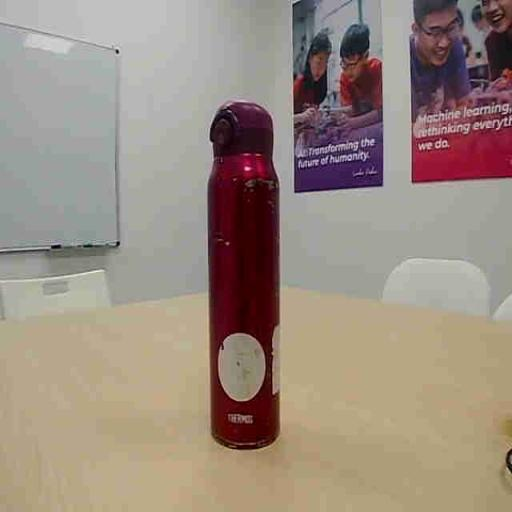bottle: (208, 103, 279, 447)
